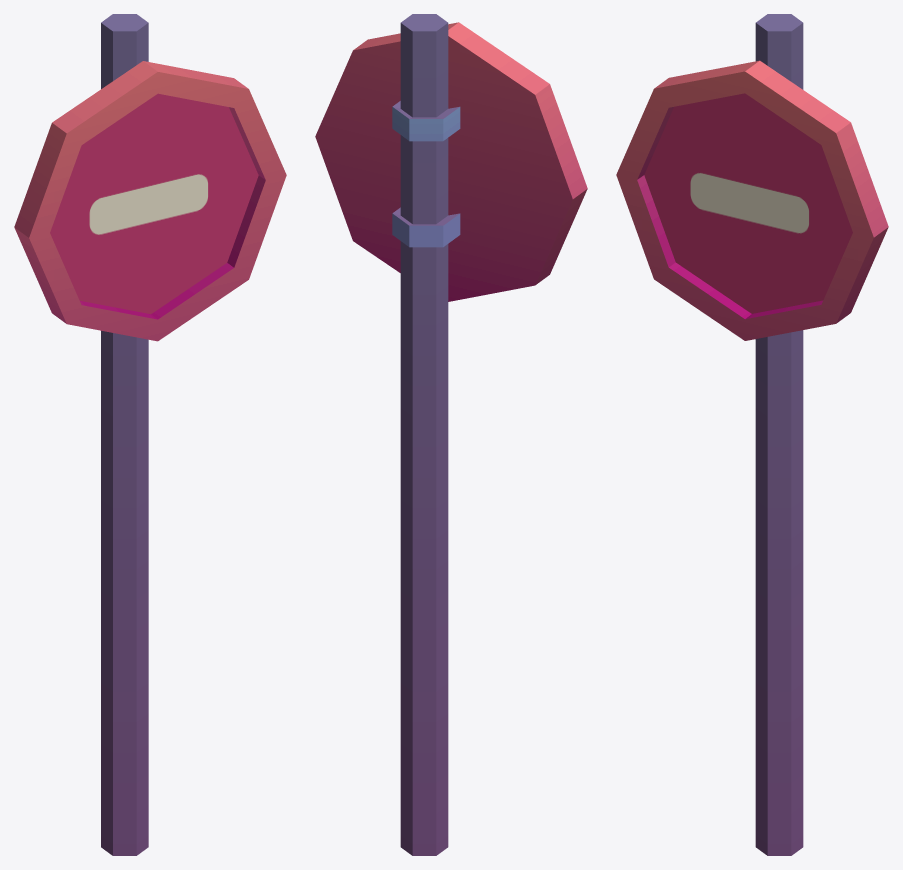
File: sign_1.gltf
3 renders of one model, left to right at view 1: azimuth 30°, elevation 25°; view 2: azimuth 150°, elevation 25°; view 3: azimuth 330°, elevation 25°, orthographic.
Parts seen in each view (by area): view 1: Object_48, Object_49; view 2: Object_48; view 3: Object_48, Object_49.
Boxes of the visible parts, left/top/right/bottom form: Object_48: left=14, top=14, right=286, bottom=855; Object_49: left=50, top=93, right=258, bottom=314; Object_48: left=315, top=14, right=587, bottom=855; Object_48: left=616, top=14, right=888, bottom=855; Object_49: left=644, top=93, right=852, bottom=313.
Size of the model in its own units: 3.88 by 11.87 by 1.28.
2 materials, 2 textured.
